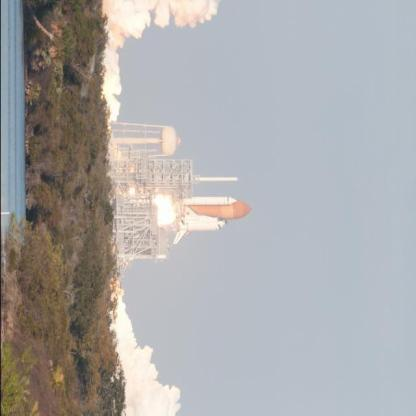MIL_TBM: (181, 195, 236, 208), (190, 174, 239, 184)
